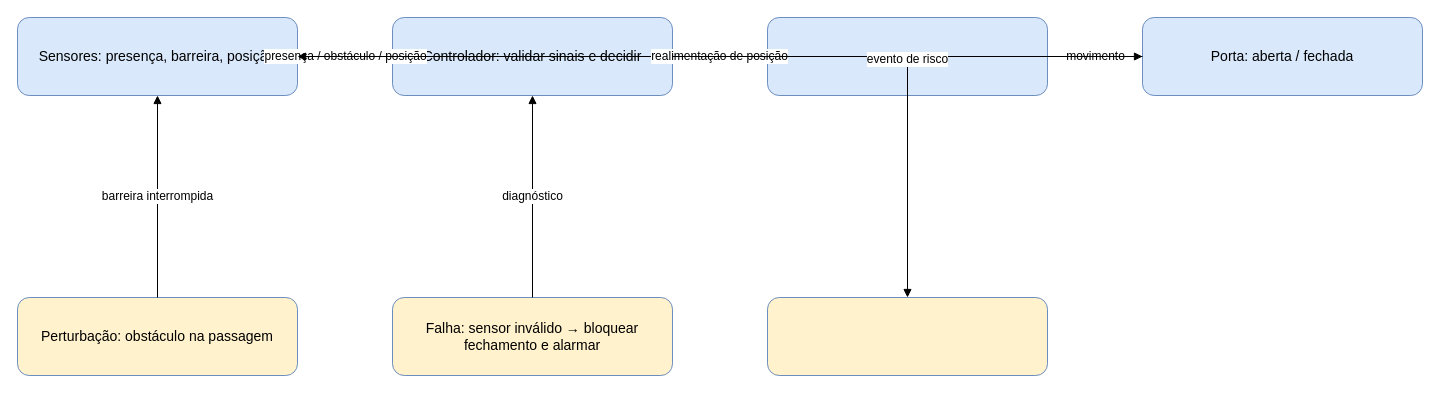
Image size: 1440x393. Some labels were removed from this diagram. The box of each missing label's shape, as (x1, y1, x2, y2) in pixels:
Motor e mecanismo da porta: (766, 16, 1048, 96)
Segurança: parar / reabrir; emergência prioritária: (766, 296, 1048, 376)
